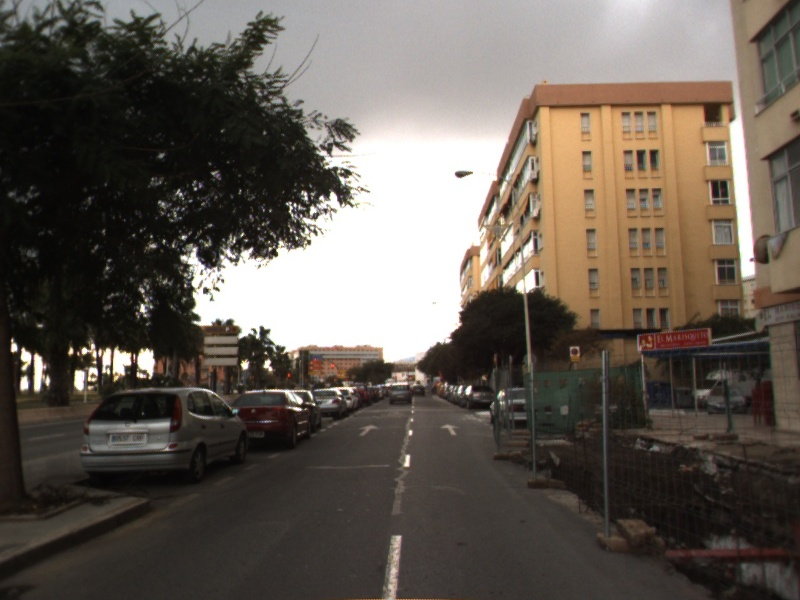STRAIGHT: (356, 423, 381, 437), (439, 422, 462, 437)
